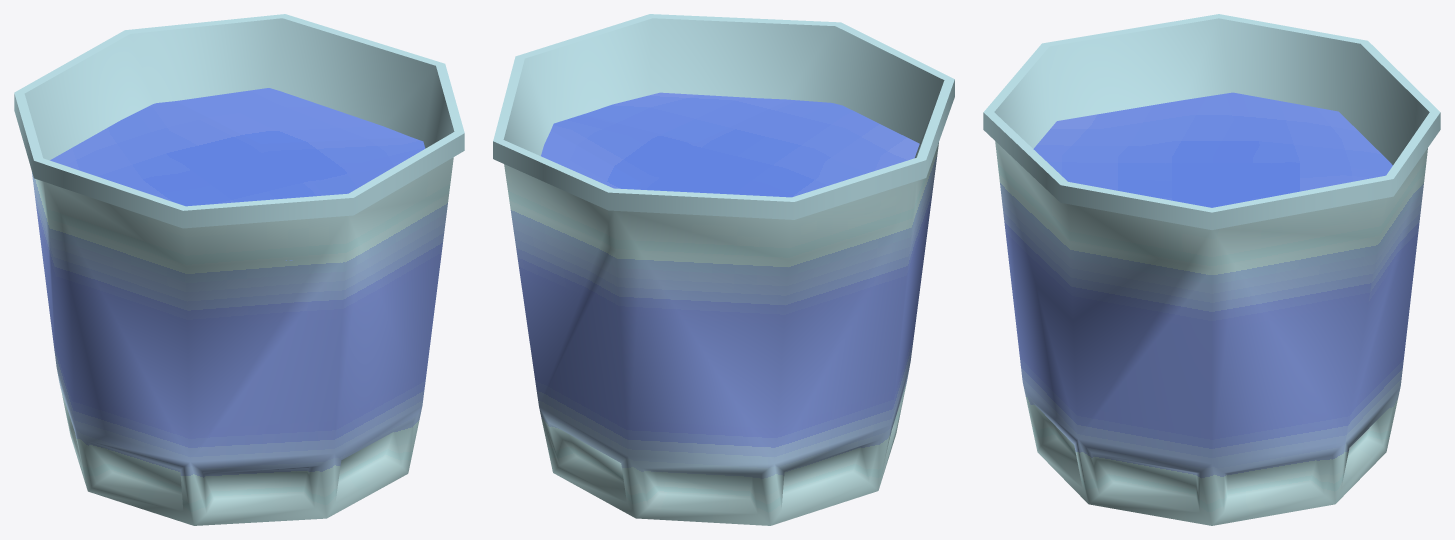
File: LowballGlass_Full.fbx
3 renders of one model, left to right at view 1: azimuth 30°, elevation 25°; view 2: azimuth 150°, elevation 25°; view 3: azimuth 270°, elevation 25°, orthographic.
Visible parts, largest first — view 1: LowballGlassLiquid; view 2: LowballGlassLiquid; view 3: LowballGlassLiquid.
Boxes of the visible parts, x1,y1,x2,y2 form: LowballGlassLiquid: [14, 14, 464, 525]; LowballGlassLiquid: [493, 14, 954, 525]; LowballGlassLiquid: [983, 14, 1440, 525].
Bounding box in the file's own units: 19.99 × 15.96 × 19.44.
